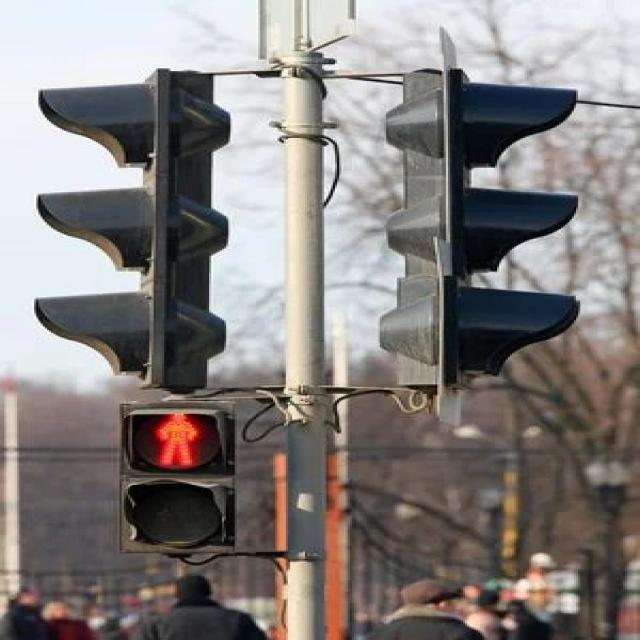Not go: (130, 406, 224, 548), (102, 404, 247, 481)
